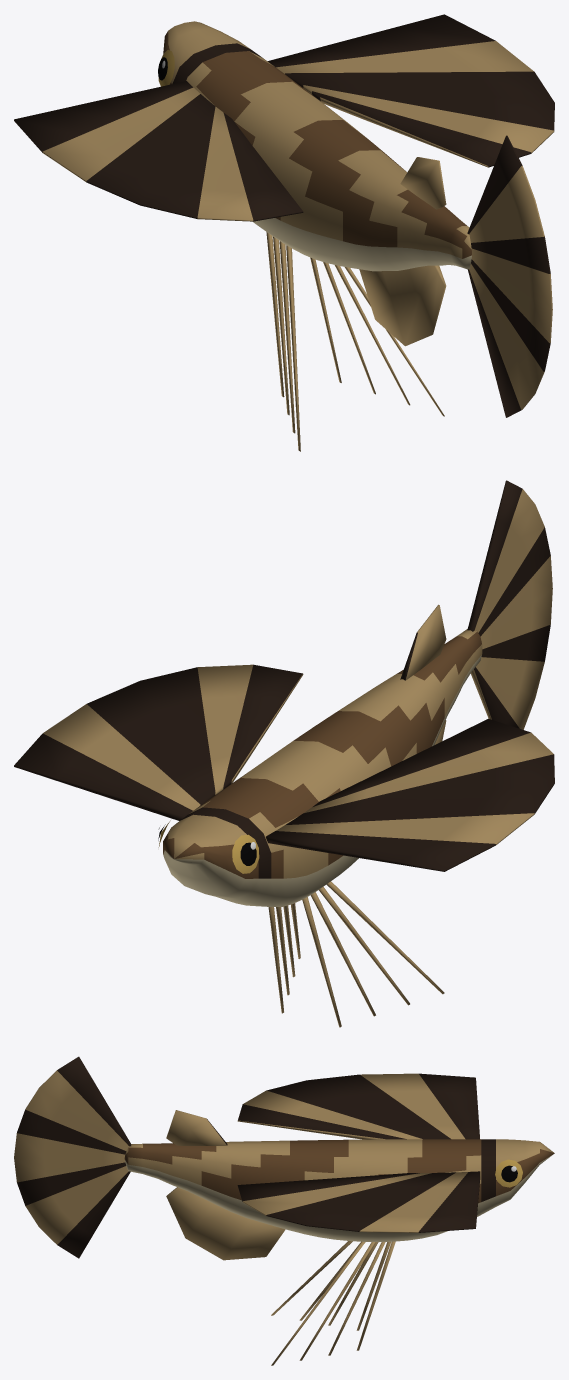
The model's file is butterflyfish.glb.
3 views of the same model, one above another, from view 1: azimuth 30°, elevation 25°; view 2: azimuth 150°, elevation 25°; view 3: azimuth 270°, elevation 25° (orthographic). The views are drawn at different scales.
Parts seen in each view (by area): view 1: butterflyfish; view 2: butterflyfish; view 3: butterflyfish.
Part boxes in pixels (x1,y1,x2,y2): butterflyfish: (14, 14, 554, 451); butterflyfish: (14, 480, 554, 1027); butterflyfish: (14, 1056, 554, 1365).
Size of the model in its own units: 1.57 by 1.32 by 2.27.
